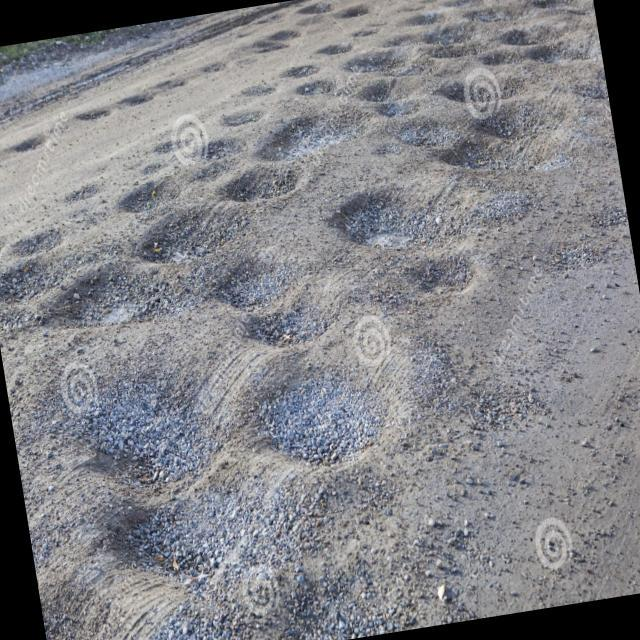Pothole: (70, 362, 258, 600), (258, 357, 394, 475), (213, 252, 316, 350), (323, 176, 453, 252), (63, 267, 155, 331), (382, 244, 482, 302), (146, 212, 226, 268), (220, 162, 302, 212), (358, 75, 421, 133), (0, 250, 65, 303), (473, 100, 555, 142), (274, 108, 330, 164), (432, 138, 500, 182), (117, 176, 185, 214), (200, 128, 238, 162)
